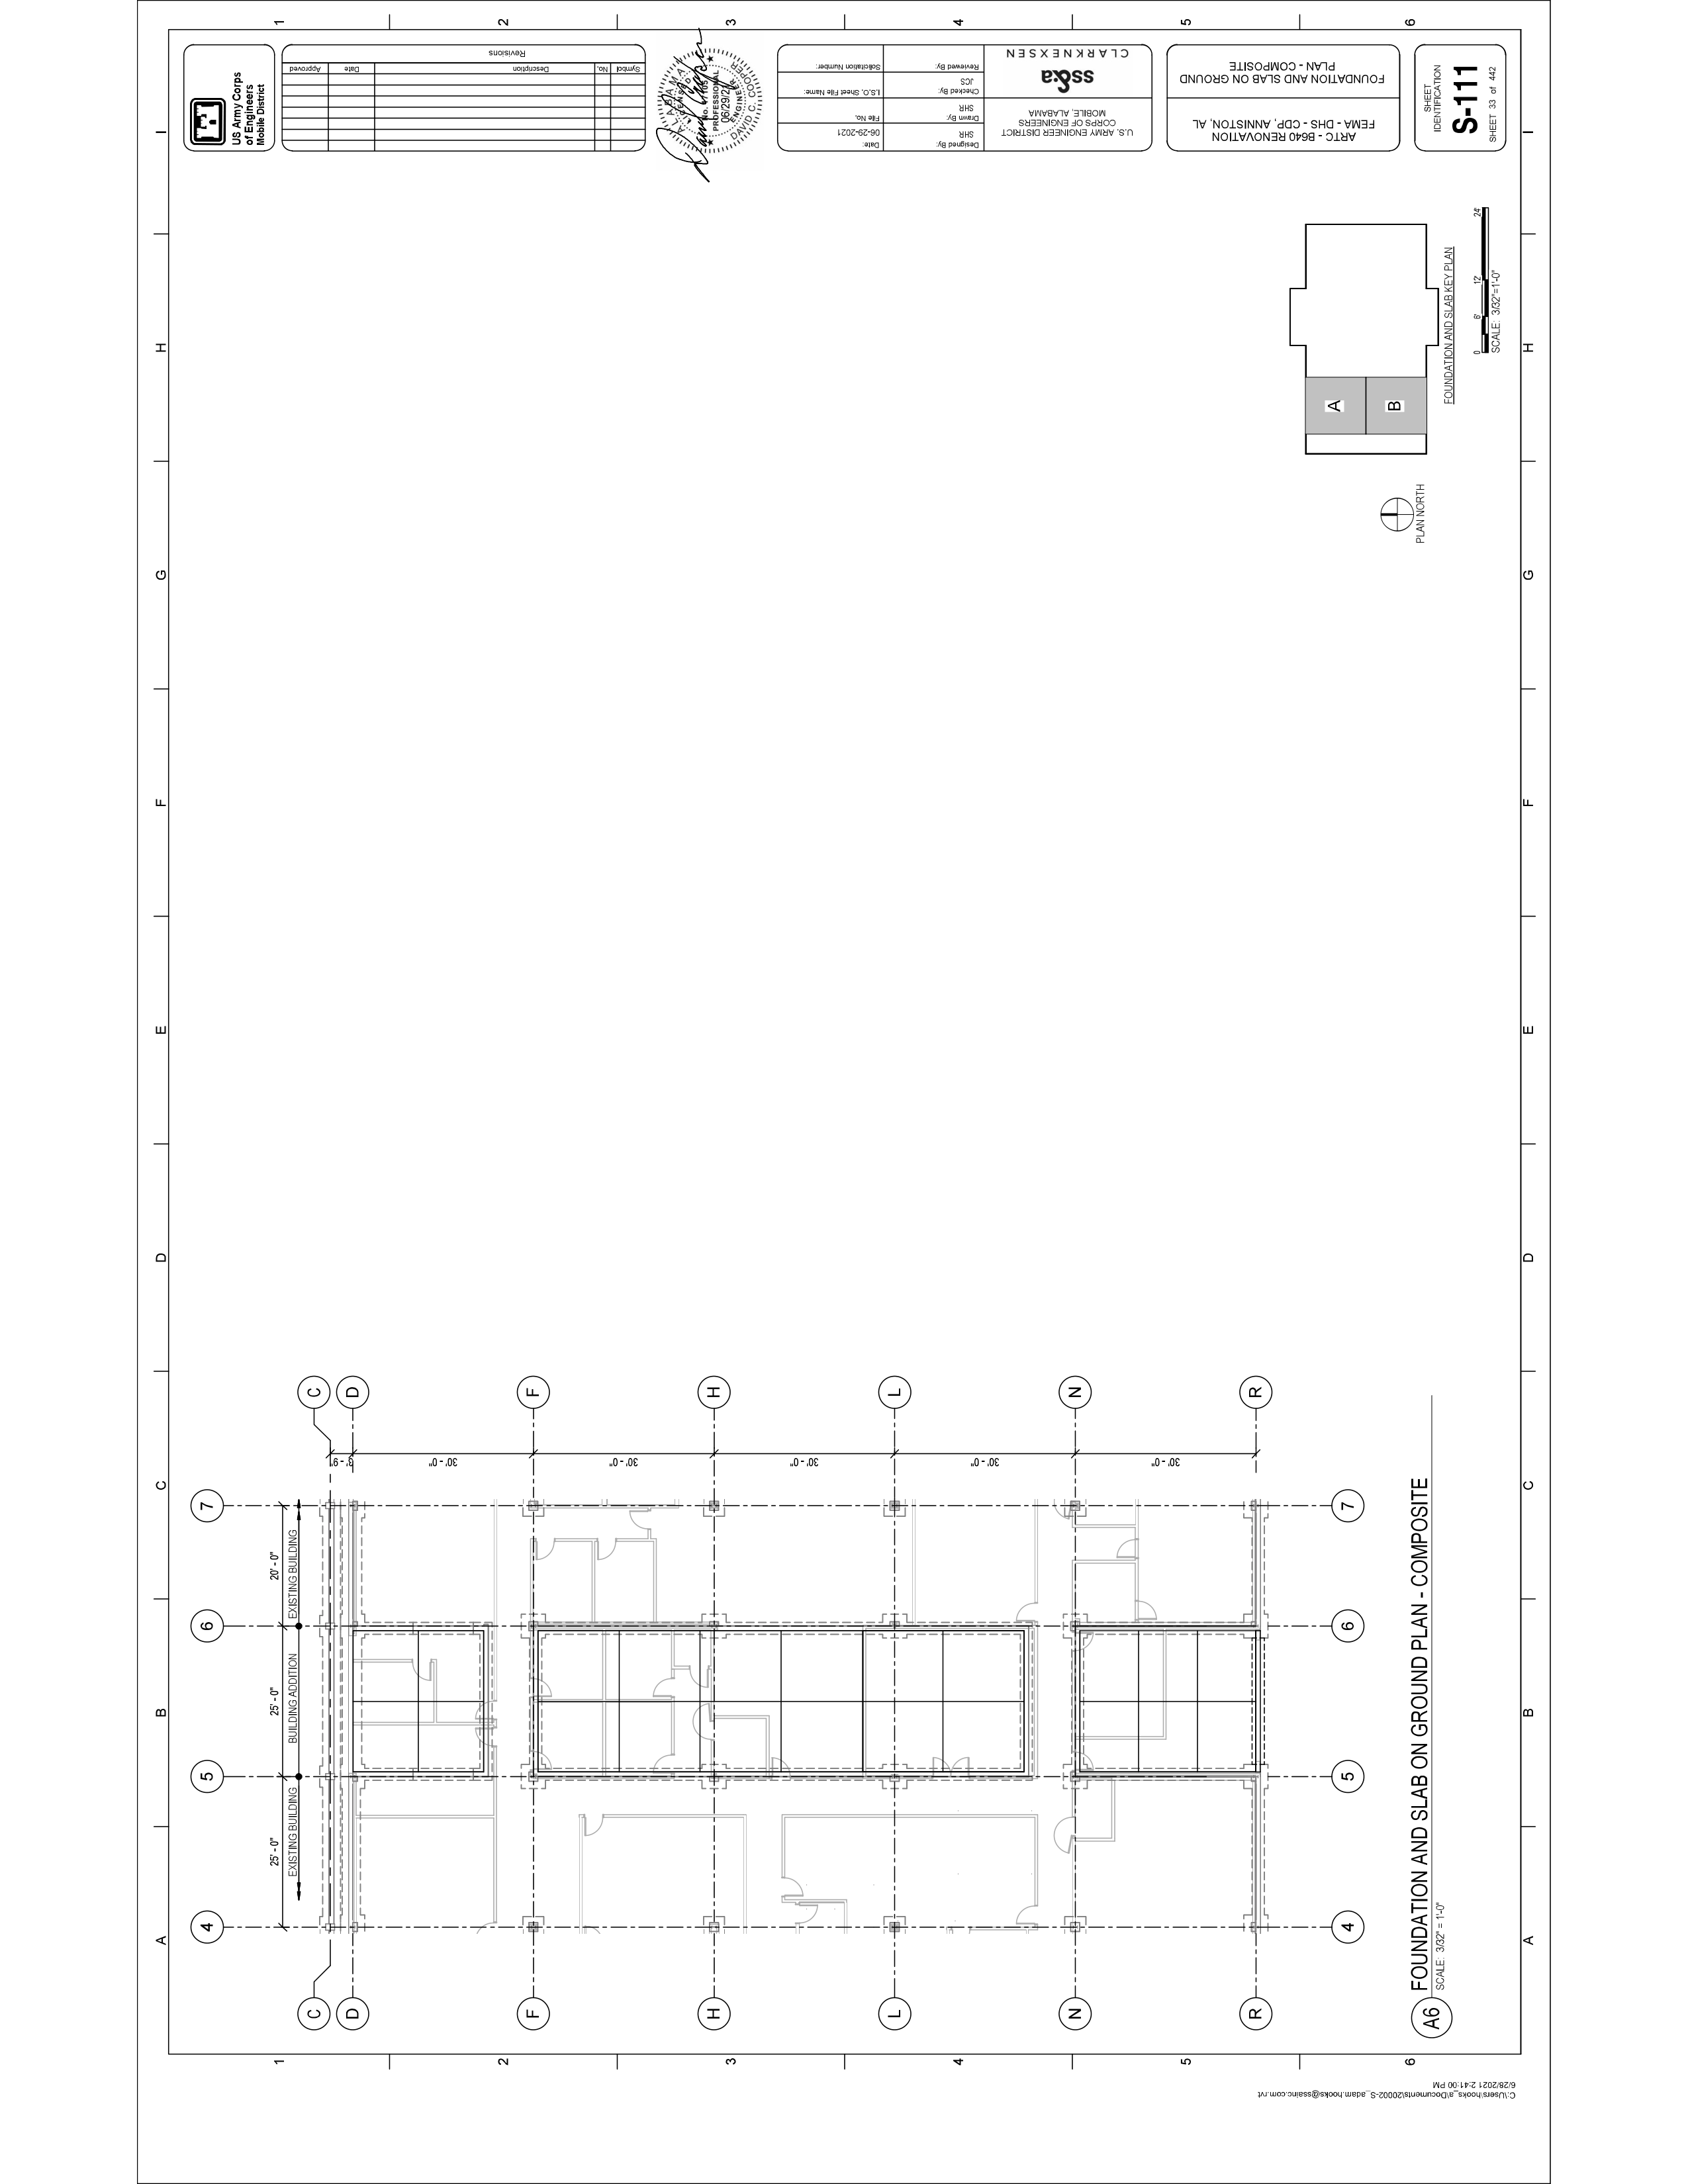detail: (1384, 1929, 1453, 1998), (175, 88, 226, 140), (1050, 1367, 1100, 1417), (1323, 1752, 1371, 1799), (183, 1482, 230, 1528), (1399, 1864, 1437, 1901), (1401, 1680, 1435, 1713), (275, 1715, 307, 1747), (1407, 1850, 1436, 1880), (1432, 322, 1460, 350), (277, 1792, 303, 1818)
title: (1395, 42, 1514, 185), (1399, 1696, 1437, 1741), (1401, 1645, 1436, 1688), (1403, 1899, 1435, 1936)
